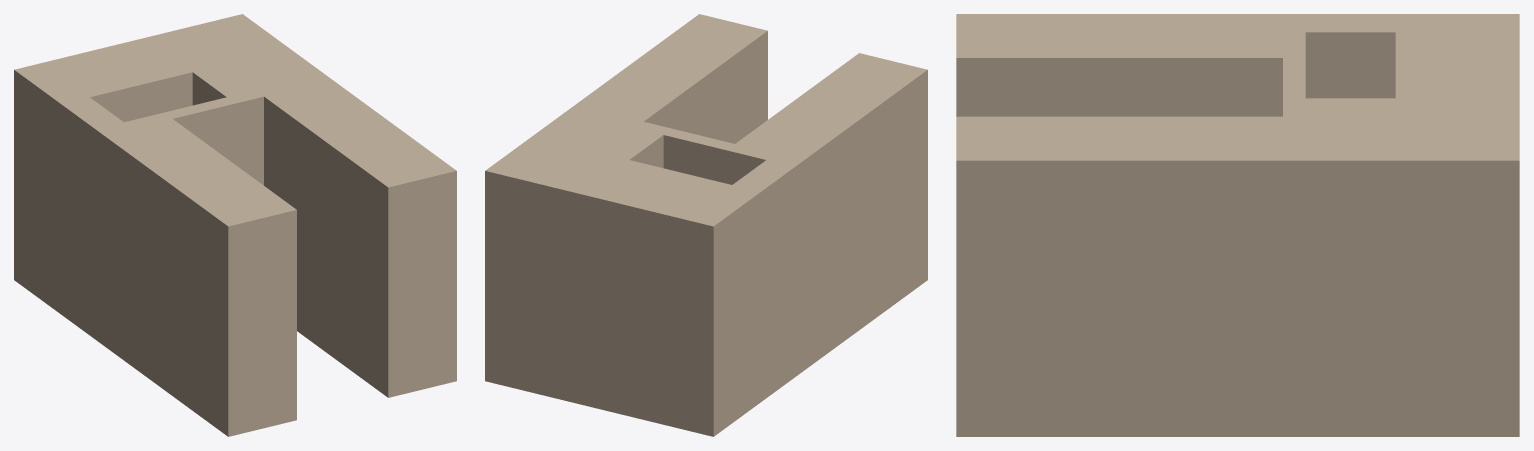
File: massing.glb
3 views of the same model, side by side, from view 1: azimuth 30°, elevation 25°; view 2: azimuth 150°, elevation 25°; view 3: azimuth 270°, elevation 25° (orthographic). The views are drawn at different scales.
Visible parts, largest first — view 1: building/exterior; view 2: building/exterior; view 3: building/exterior.
Boxes of the visible parts, box(x1,y1,x2,y2) form: building/exterior: box(14, 14, 456, 436); building/exterior: box(485, 14, 927, 436); building/exterior: box(956, 14, 1519, 436).
Size of the model in its own units: 10 by 8.8 by 16.24.
